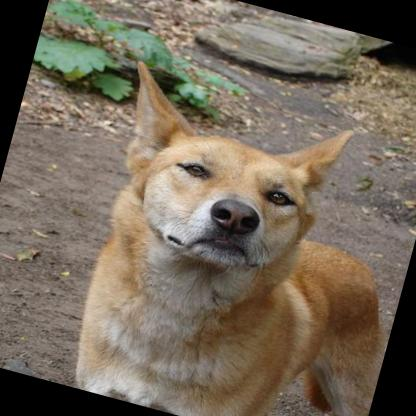dingo: (49, 54, 416, 416)
